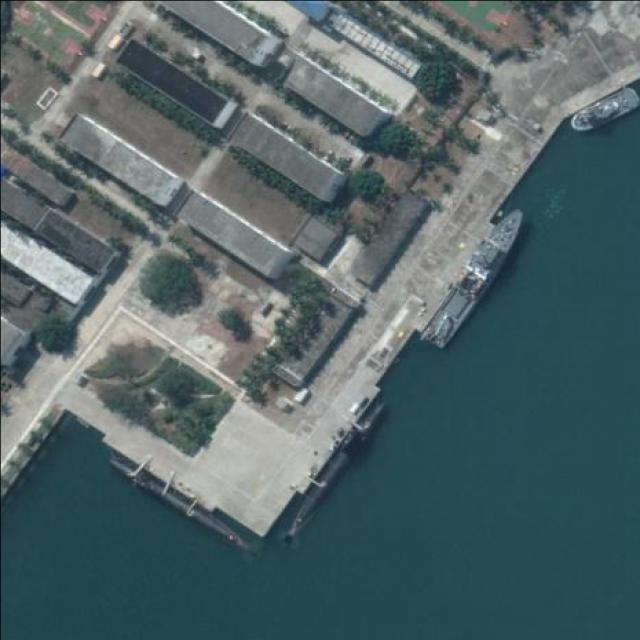Frigate: (418, 201, 535, 352)
Submarine: (277, 396, 389, 548), (102, 452, 253, 558)
